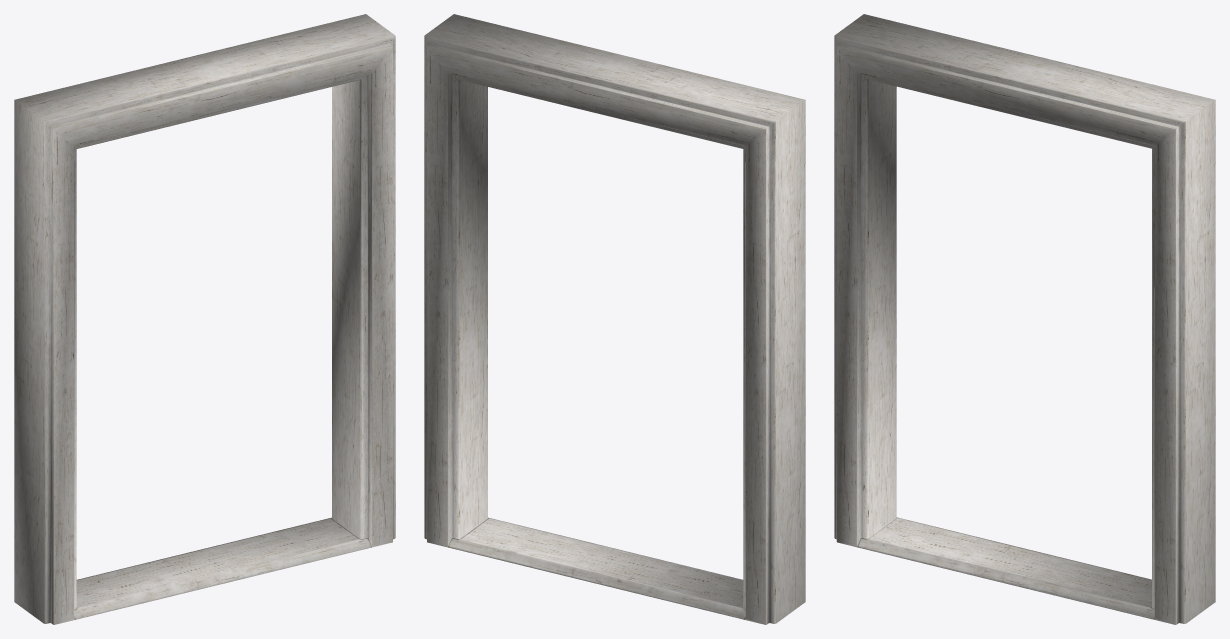
File: livingroom_damaged_doorframe.dae
The picture shows the model from 3 angles, left to right: view 1: azimuth 30°, elevation 25°; view 2: azimuth 150°, elevation 25°; view 3: azimuth 330°, elevation 25°; orthographic projection.
Parts seen in each view (by area): view 1: pCube2; view 2: pCube2; view 3: pCube2.
Part boxes in pixels (x1=…): pCube2: x1=14, y1=14, x2=395, y2=624; pCube2: x1=424, y1=14, x2=805, y2=624; pCube2: x1=834, y1=14, x2=1215, y2=624.
Bounding box in the file's own units: 2.17 × 2.97 × 0.4.
